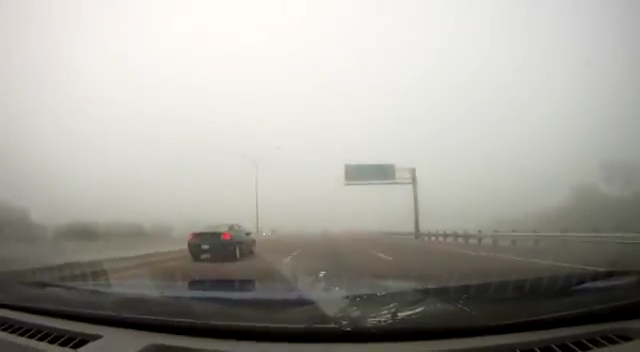car: (187, 223, 256, 261)
